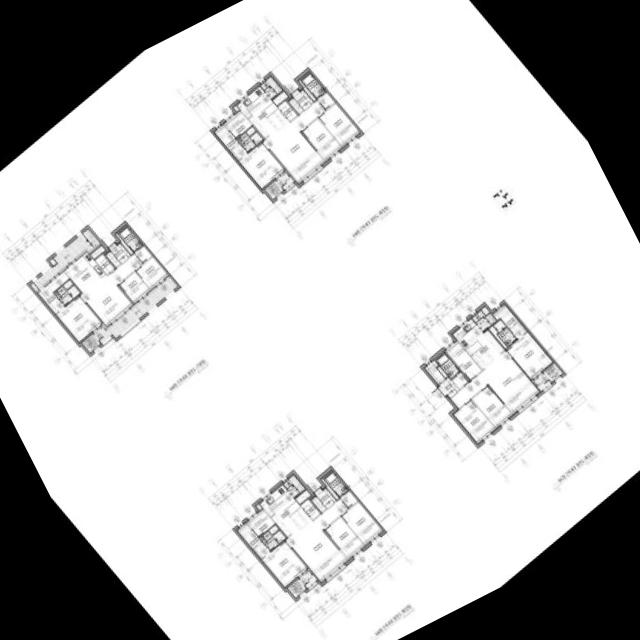background: (0, 0, 640, 640)
space_balconi: (94, 277, 177, 343), (30, 228, 99, 291), (260, 76, 282, 99), (472, 310, 496, 331), (283, 475, 305, 497), (533, 373, 551, 391), (299, 570, 317, 588), (276, 172, 294, 189)
space_bedroom: (506, 332, 552, 379), (56, 295, 101, 342), (262, 540, 307, 587), (239, 142, 284, 188), (453, 400, 495, 442), (318, 103, 359, 146), (341, 501, 382, 544), (324, 517, 364, 558), (302, 118, 341, 160), (472, 386, 511, 427), (135, 256, 168, 289), (119, 272, 150, 303)
space_dressroom: (38, 271, 69, 314), (214, 124, 247, 160), (237, 523, 270, 559), (493, 304, 518, 328)
space_front: (110, 243, 130, 264), (293, 89, 313, 110), (316, 488, 336, 509), (439, 377, 459, 398)
space_kitchen: (259, 484, 313, 537), (237, 86, 290, 138), (452, 318, 504, 370), (64, 252, 105, 293)
space_living_room: (450, 350, 539, 413), (263, 100, 325, 183), (286, 498, 348, 581), (80, 253, 142, 326)
space_other: (445, 341, 481, 379), (224, 110, 252, 138), (247, 509, 274, 537), (425, 360, 445, 384), (300, 499, 320, 519), (278, 100, 297, 121), (489, 326, 507, 348), (95, 254, 114, 274), (115, 233, 133, 254), (298, 80, 316, 101), (321, 478, 338, 499), (134, 245, 152, 263), (317, 92, 335, 109), (340, 490, 357, 508), (509, 321, 527, 338), (452, 372, 468, 388), (311, 496, 326, 512), (105, 251, 120, 267), (288, 98, 303, 113), (295, 490, 311, 504), (90, 245, 105, 259), (273, 91, 288, 105), (437, 366, 447, 377), (63, 280, 73, 289), (246, 126, 255, 135), (269, 525, 278, 534), (481, 306, 489, 314), (49, 258, 56, 265), (233, 105, 239, 111), (256, 504, 262, 510)
space_outdoor_room: (81, 333, 100, 352), (264, 180, 283, 199), (287, 578, 306, 597), (543, 363, 562, 382)
space_toilet: (118, 226, 142, 252), (324, 471, 348, 497), (493, 319, 516, 346), (301, 73, 325, 98), (436, 353, 460, 378), (237, 131, 263, 152), (54, 285, 80, 305), (260, 530, 285, 550)
